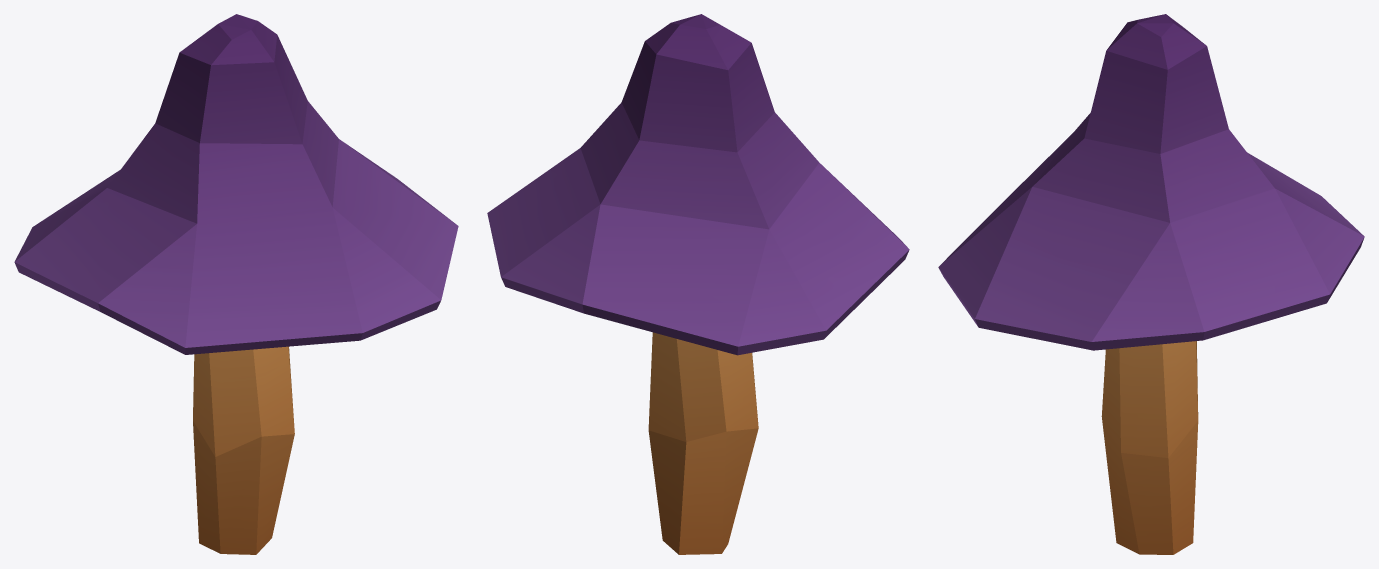
Rendered from mushroom_purple_giant.fbx.
The picture shows the model from 3 angles, left to right: view 1: azimuth 30°, elevation 25°; view 2: azimuth 150°, elevation 25°; view 3: azimuth 270°, elevation 25°; orthographic projection.
Parts seen in each view (by area): view 1: mushroom_purple_giant; view 2: mushroom_purple_giant; view 3: mushroom_purple_giant.
Boxes of the visible parts, bbox=[...] form: mushroom_purple_giant: bbox=[14, 14, 458, 554]; mushroom_purple_giant: bbox=[487, 14, 909, 554]; mushroom_purple_giant: bbox=[938, 14, 1364, 554].
Bounding box in the file's own units: 2.7 × 3.7 × 2.7.
1 material, 1 textured.
